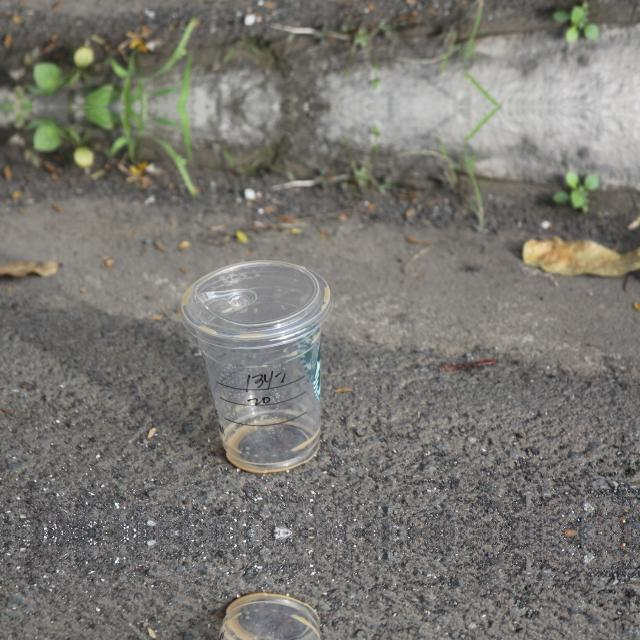Plastic: (180, 256, 334, 476), (179, 589, 334, 640)
